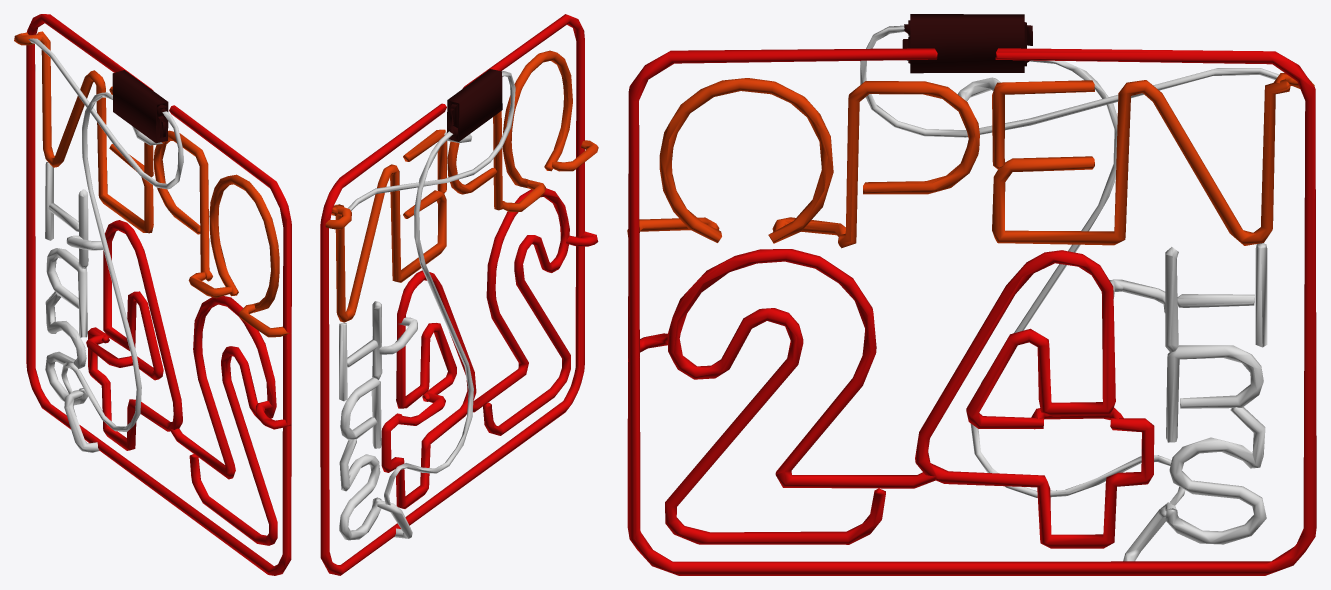
Rendered from uploads_files_867191_sign_neon_24h.fbx.
The picture shows the model from 3 angles, left to right: view 1: azimuth 30°, elevation 25°; view 2: azimuth 150°, elevation 25°; view 3: azimuth 270°, elevation 25°; orthographic projection. The views are drawn at different scales.
Parts seen in each view (by area): view 1: sign_neon_24h; view 2: sign_neon_24h; view 3: sign_neon_24h.
Part boxes in pixels (x1,y1,x2,y2): sign_neon_24h: (14, 14, 291, 575); sign_neon_24h: (320, 14, 598, 575); sign_neon_24h: (627, 14, 1316, 575).
Bounding box in the file's own units: 4.83 × 60.9 × 69.93.
